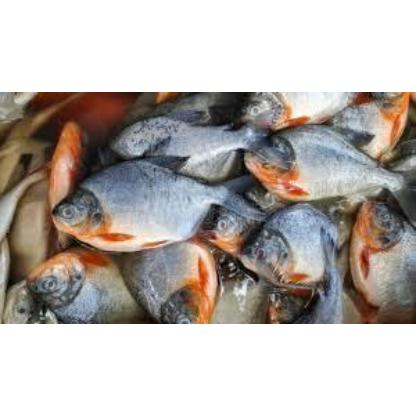ikan-pacu: (54, 164, 214, 247), (242, 126, 402, 200), (244, 198, 340, 286), (28, 249, 128, 323), (352, 200, 414, 310), (133, 238, 213, 323), (241, 91, 355, 121)
